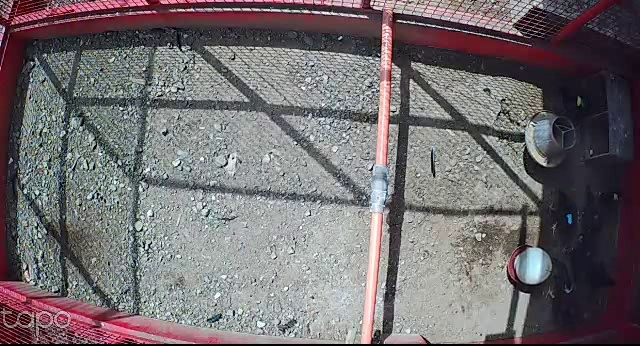Chicken: (544, 188, 581, 239)
Drinker: (506, 244, 555, 288)
Feeder: (525, 110, 580, 167)
Saddle_Color_Blue: (565, 212, 573, 224)
